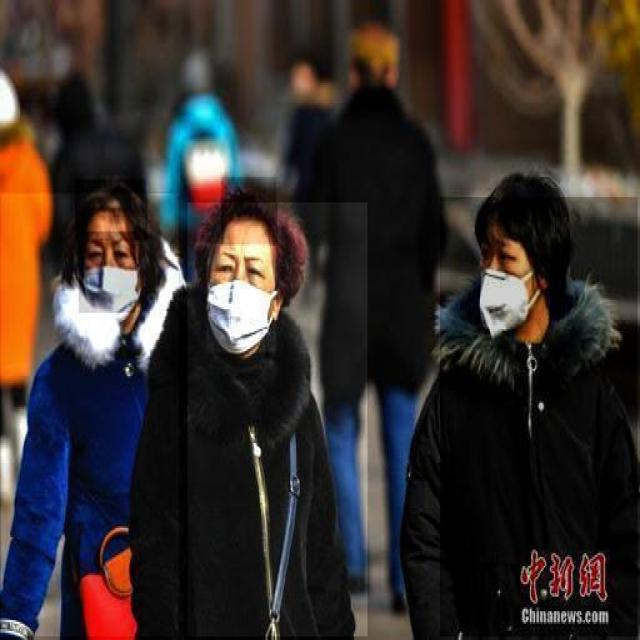face_mask: (206, 244, 276, 353), (478, 226, 536, 331), (79, 231, 136, 313)
head_nohelmet: (482, 174, 558, 238), (75, 179, 147, 240), (222, 177, 278, 246)
person: (440, 197, 639, 638), (1, 194, 180, 638), (188, 203, 368, 638)
